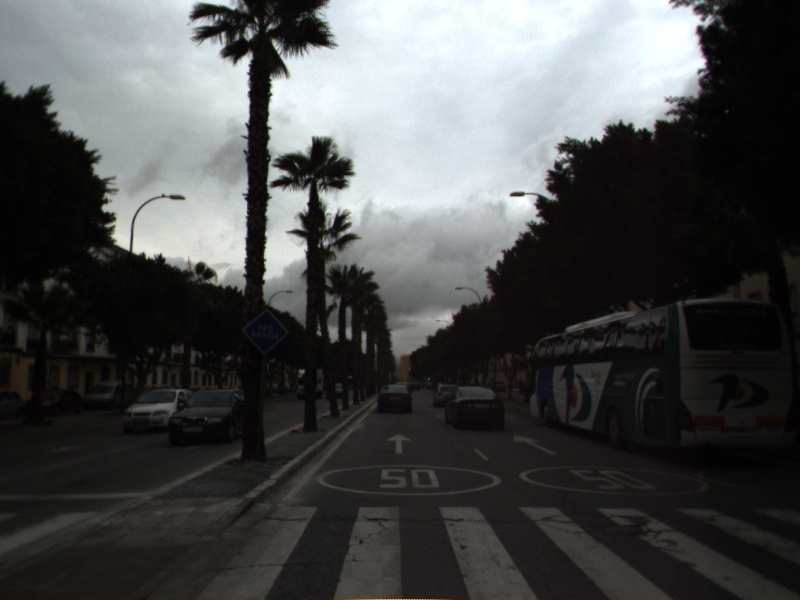STRAIGHT: (511, 432, 560, 457), (384, 432, 414, 456)
